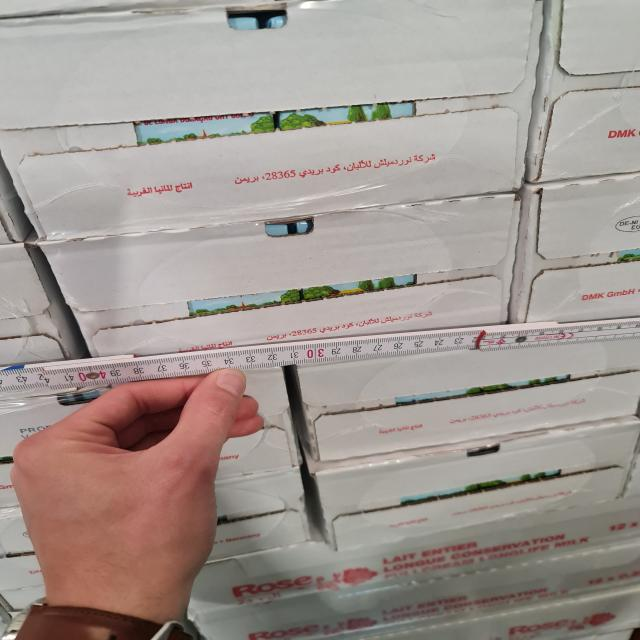Carton: (1, 50, 540, 362), (295, 322, 639, 552)
